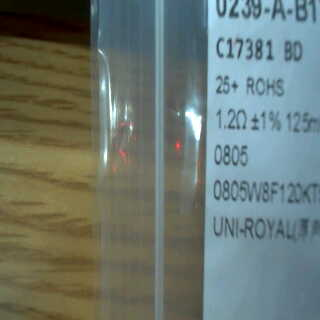1.2R: (208, 106, 251, 172)
